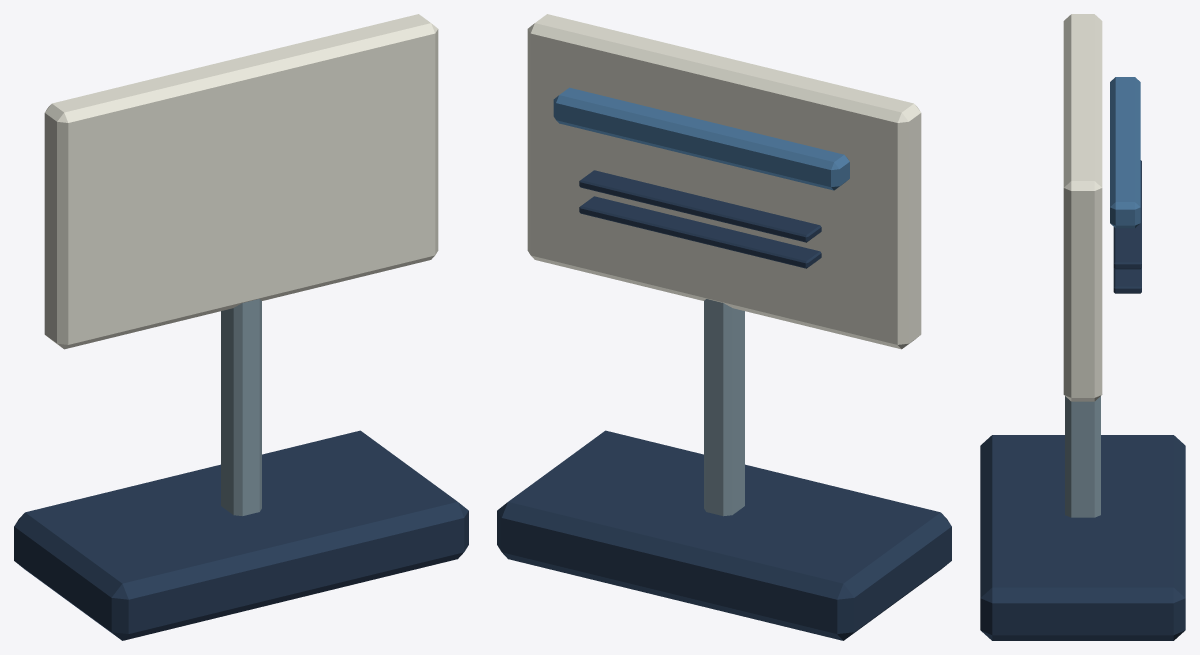
File: small_price_display.glb
3 renders of one model, left to right at view 1: azimuth 30°, elevation 25°; view 2: azimuth 150°, elevation 25°; view 3: azimuth 270°, elevation 25°, orthographic. The views are drawn at different scales.
Visible parts, largest first — view 1: price_card, price_base, price_stem; view 2: price_card, price_base, price_card_header, price_card_line (×2), price_stem; view 3: price_base, price_card, price_card_header, price_stem, price_card_line (×2).
Boxes of the visible parts, box(x1,y1,x2,y2) form: price_card: box(44, 14, 438, 349); price_base: box(14, 430, 468, 640); price_stem: box(221, 299, 261, 516); price_card: box(527, 14, 921, 349); price_base: box(497, 430, 951, 640); price_card_header: box(553, 87, 849, 190); price_card_line (×2): box(579, 170, 821, 268); price_stem: box(704, 299, 744, 516); price_base: box(980, 435, 1185, 640); price_card: box(1063, 14, 1102, 401); price_card_header: box(1110, 77, 1140, 228); price_stem: box(1065, 396, 1100, 517); price_card_line (×2): box(1113, 160, 1141, 293).
Bounding box in the file's own units: 0.16 × 0.201 × 0.08.
